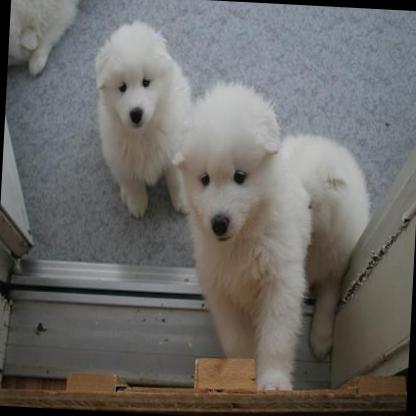Samoyed: (156, 73, 374, 396), (84, 19, 199, 218), (7, 0, 81, 75)
